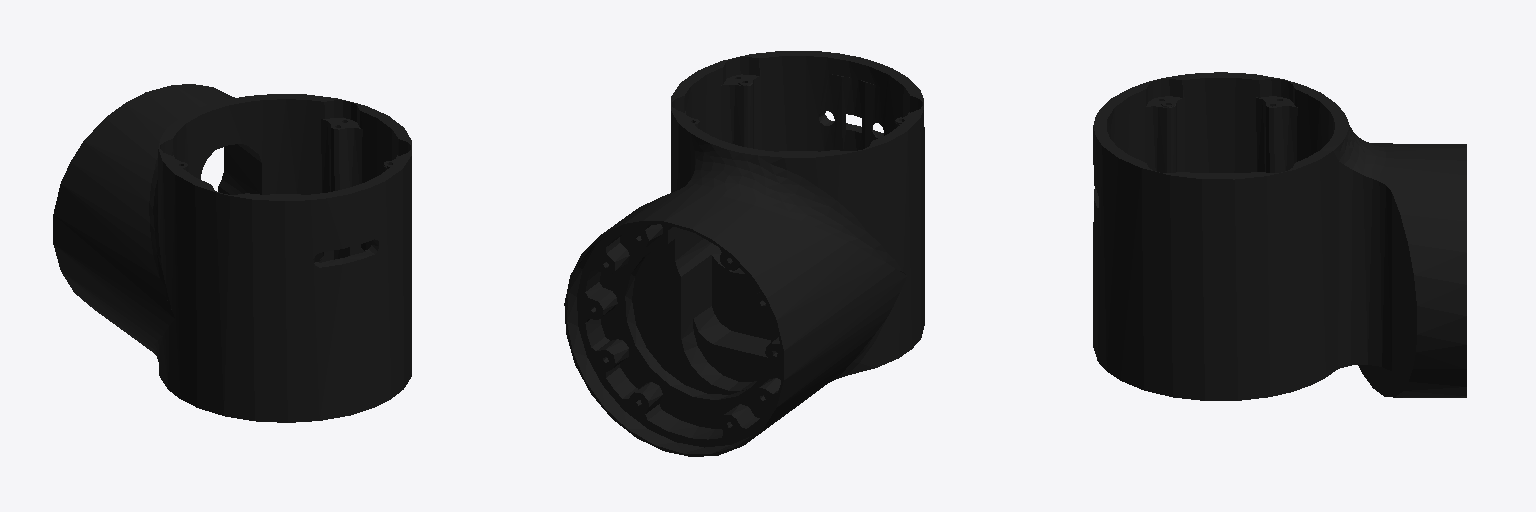
Rendered from right_arm_2_1.obj.
3 views of the same model, side by side, from view 1: azimuth 30°, elevation 25°; view 2: azimuth 150°, elevation 25°; view 3: azimuth 270°, elevation 25° (orthographic).
Size of the model in its own units: 0.0901 by 0.1016 by 0.1321.